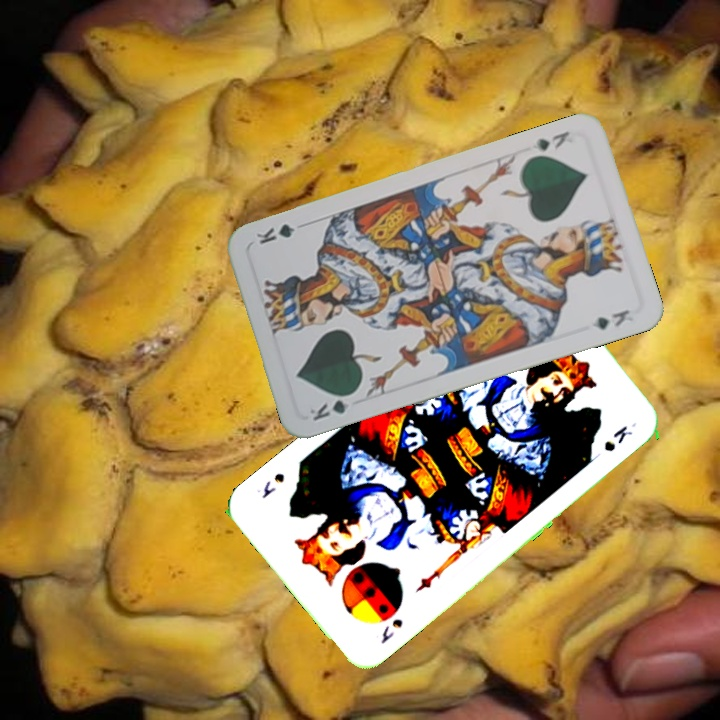GK: (305, 388, 359, 424), (528, 127, 572, 154)
SK: (376, 614, 406, 647)
